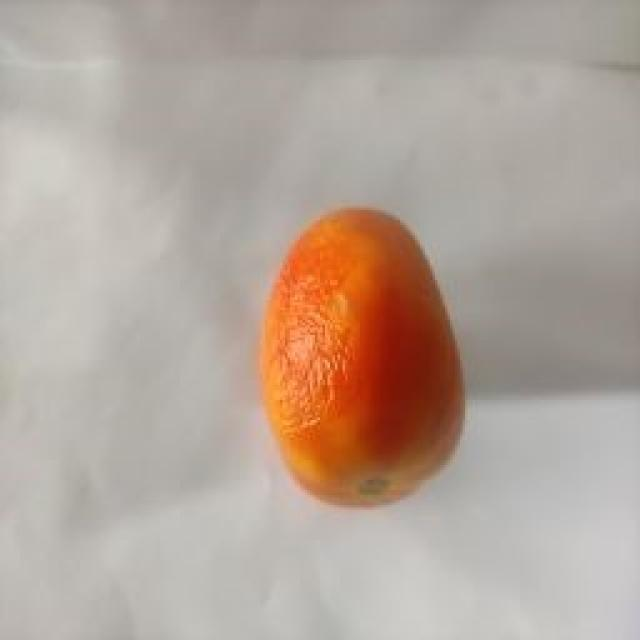unripe: (96, 169, 538, 531)
